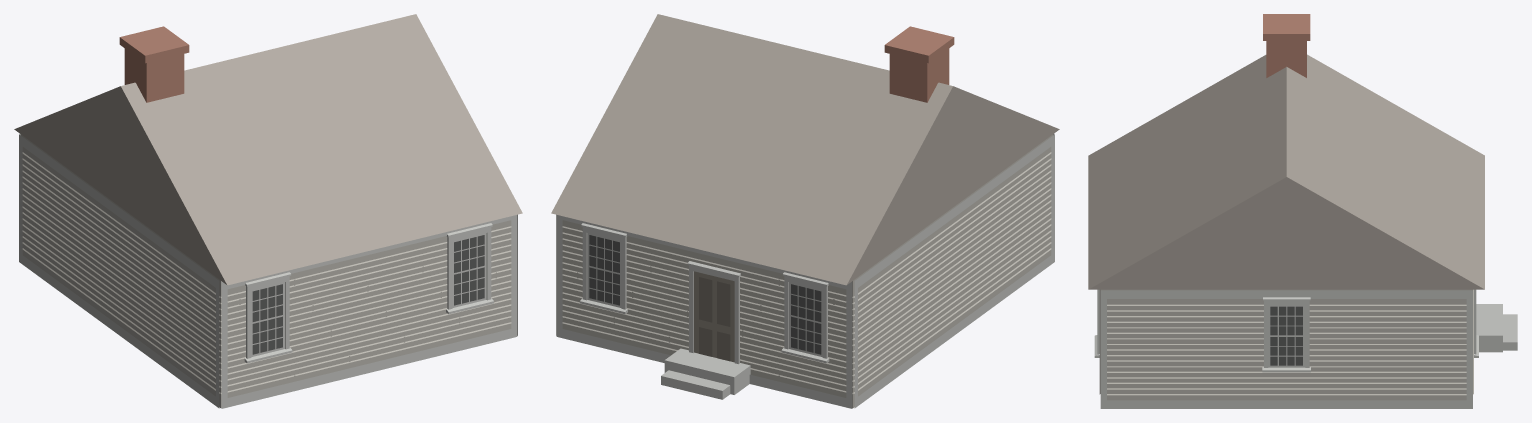
The model's file is recon_1835_blk_randolph_clinton_d4_02__inferred_1835.glb.
3 views of the same model, side by side, from view 1: azimuth 30°, elevation 25°; view 2: azimuth 150°, elevation 25°; view 3: azimuth 270°, elevation 25° (orthographic). The views are drawn at different scales.
Visible parts, largest first — view 1: recon_1835_blk_randolph_clinton_d4_02__inferred_1835; view 2: recon_1835_blk_randolph_clinton_d4_02__inferred_1835; view 3: recon_1835_blk_randolph_clinton_d4_02__inferred_1835.
Boxes of the visible parts, <box> form: recon_1835_blk_randolph_clinton_d4_02__inferred_1835: <box>14,14,522,408</box>; recon_1835_blk_randolph_clinton_d4_02__inferred_1835: <box>551,14,1059,408</box>; recon_1835_blk_randolph_clinton_d4_02__inferred_1835: <box>1088,14,1517,408</box>.
Size of the model in its own units: 6.71 by 6.06 by 8.87.
